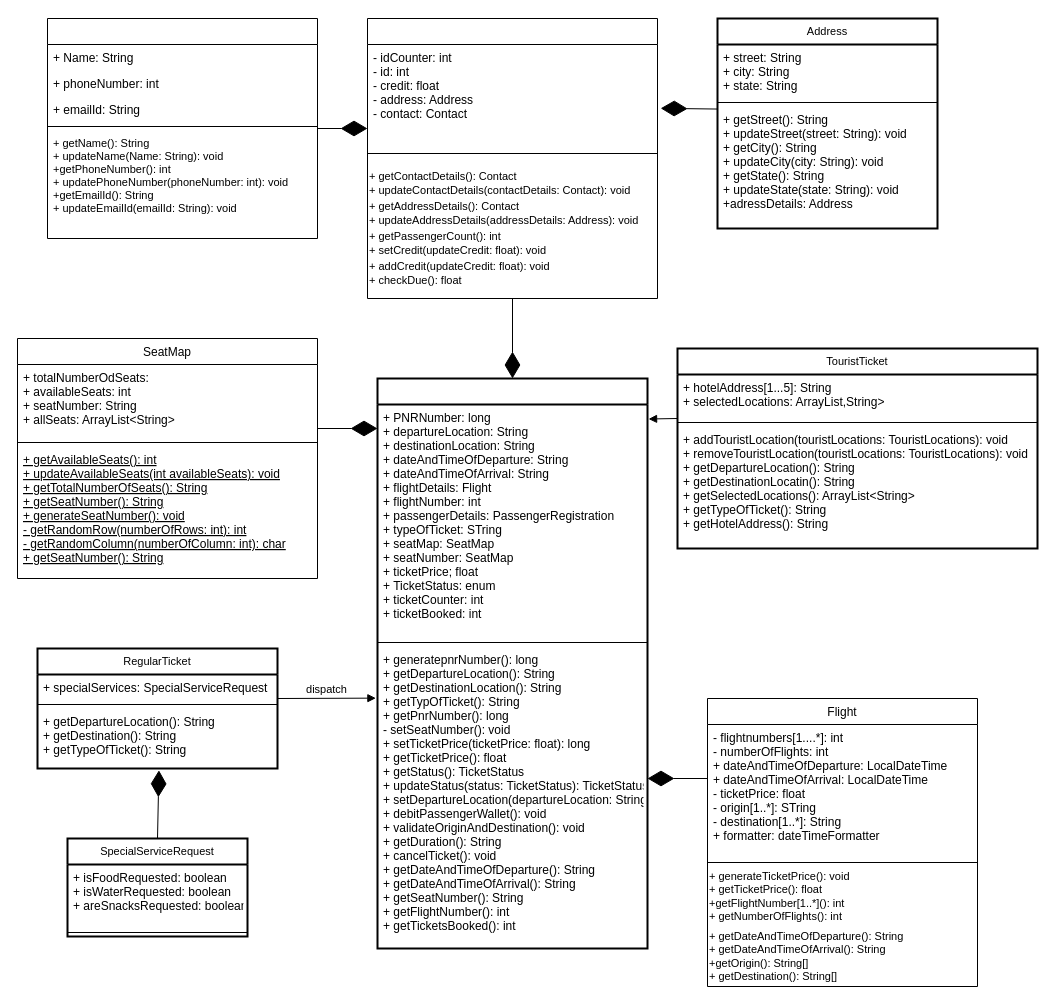
Some shapes in this 1056 by 1004 pixel diagram are drawn without their labels. The box of each missing label's shape, as (x1, y1, x2, y2) in pixels:
BookingTicket: (376, 377, 648, 949)
Contact: (46, 18, 318, 238)
PassengerRegistration: (366, 18, 658, 298)
